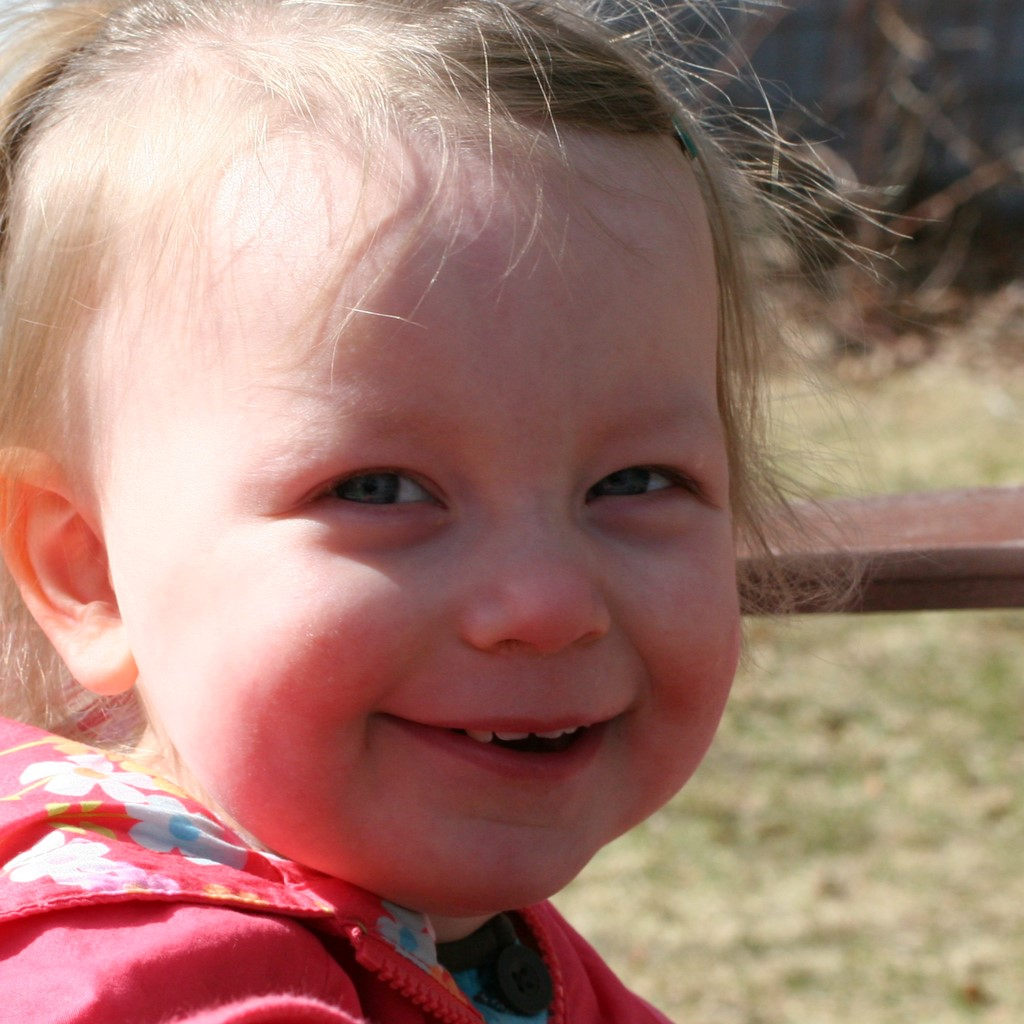sin_mascara: (148, 114, 761, 931)
